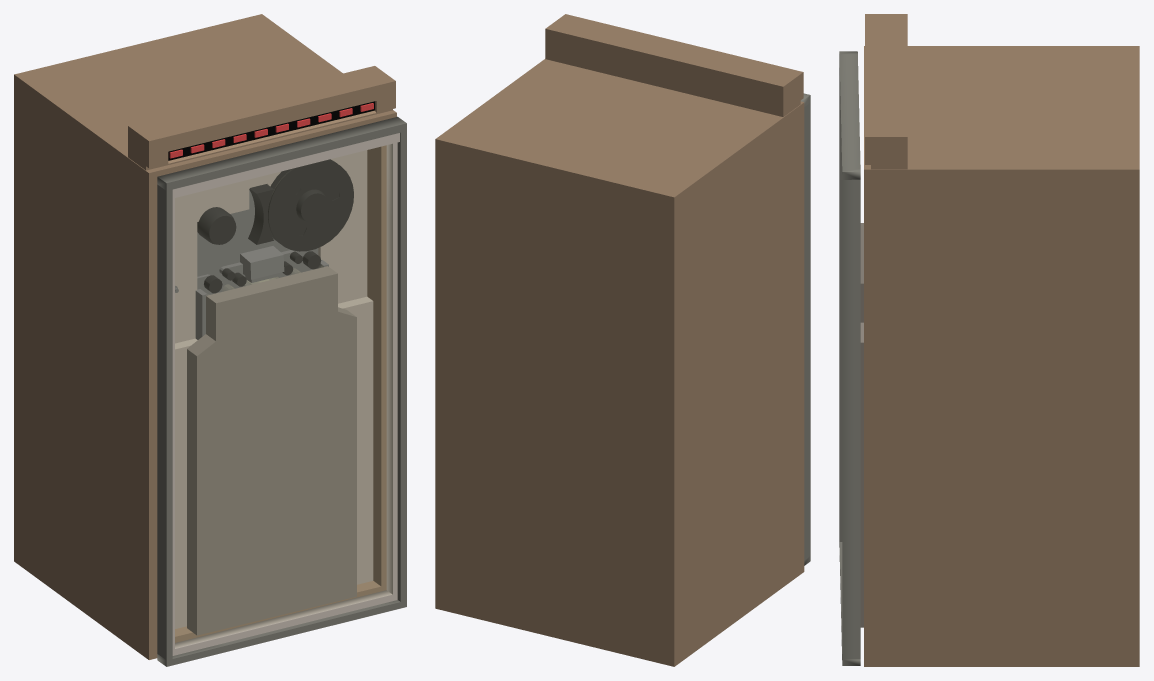
File: Univac_Armoire_S_Bobine.glb
3 renders of one model, left to right at view 1: azimuth 30°, elevation 25°; view 2: azimuth 150°, elevation 25°; view 3: azimuth 270°, elevation 25°, orthographic. The views are drawn at different scales.
Parts seen in each view (by area): view 1: Armoire, Porte; view 2: Armoire, Porte; view 3: Armoire, Porte.
Part boxes in pixels (x1,y1,x2,y2): Armoire: [14, 14, 396, 659]; Porte: [157, 116, 406, 666]; Armoire: [435, 14, 804, 666]; Porte: [800, 93, 810, 565]; Armoire: [860, 14, 1139, 666]; Porte: [839, 51, 860, 665].
Size of the model in its own units: 0.875 by 1.75 by 0.8978.
